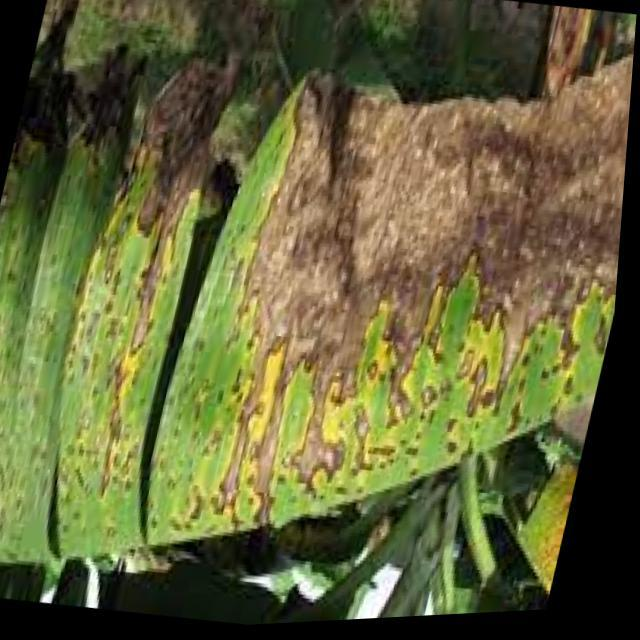Early_rust: (0, 51, 640, 571)
